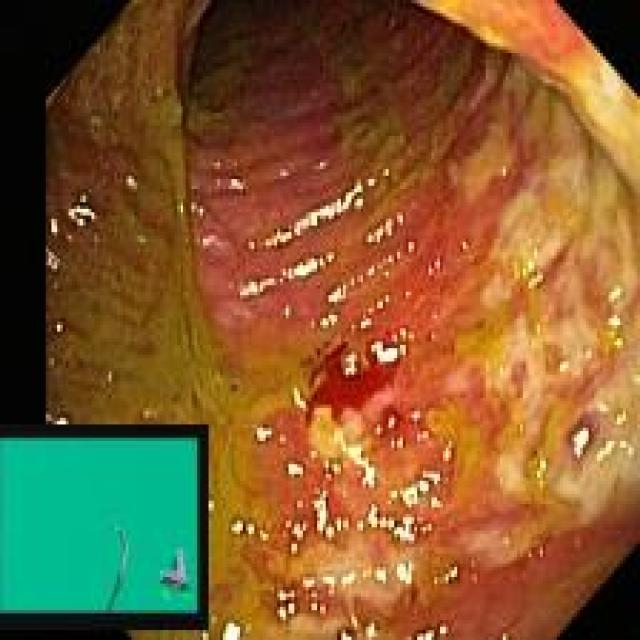ulcerative-colitis-grade-3: (49, 4, 638, 638)
